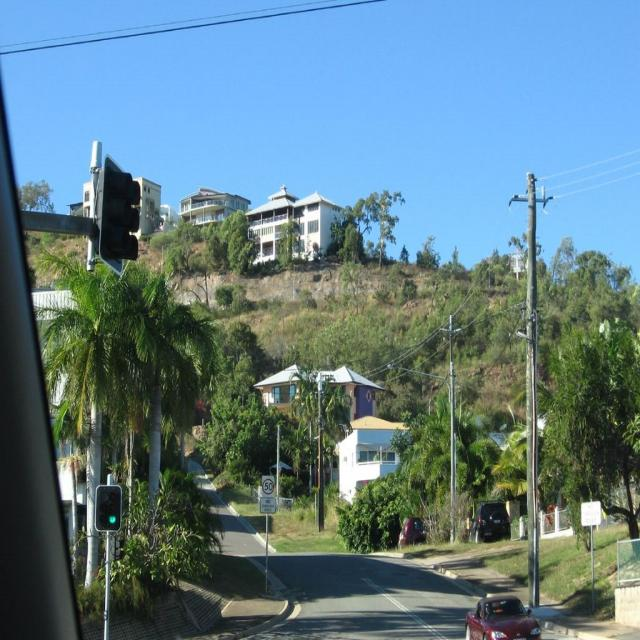other: (465, 588, 543, 640), (466, 499, 512, 547)
